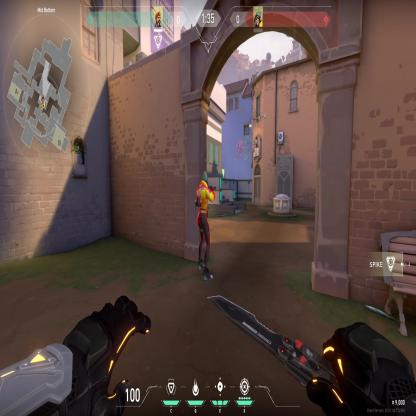enemy: (193, 167, 214, 285)
